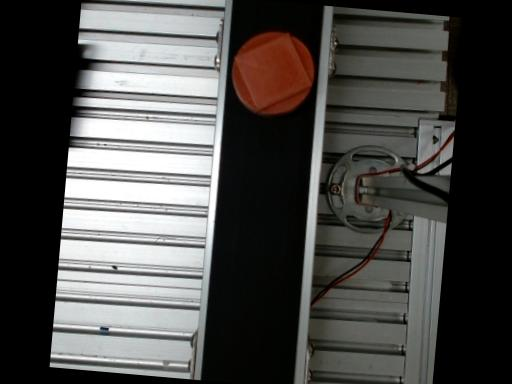Brown_Waper: (230, 32, 313, 115)
Square: (235, 32, 310, 112)
